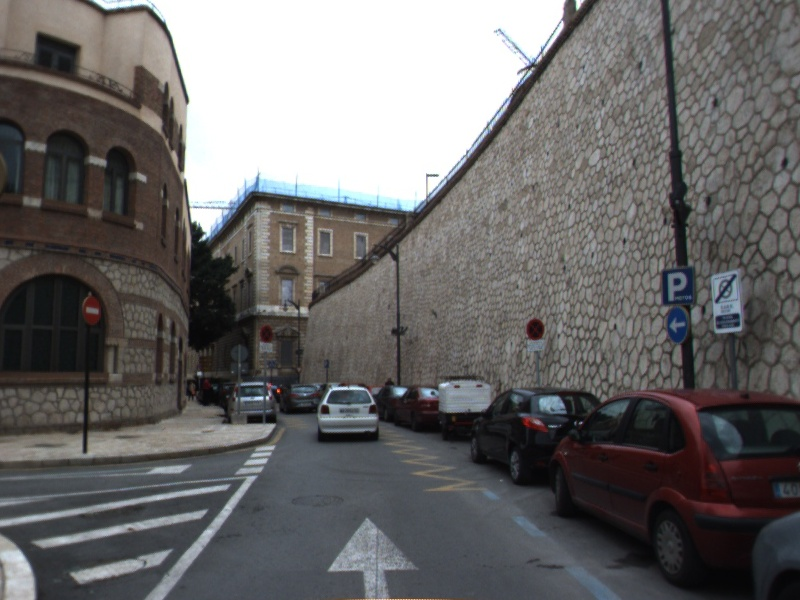STRAIGHT: (325, 516, 421, 600)
